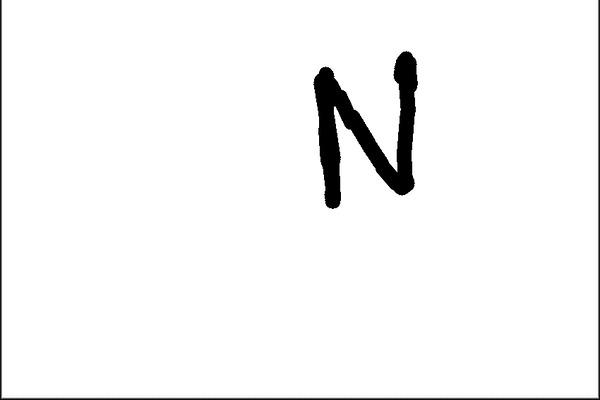N: (308, 45, 424, 212)
